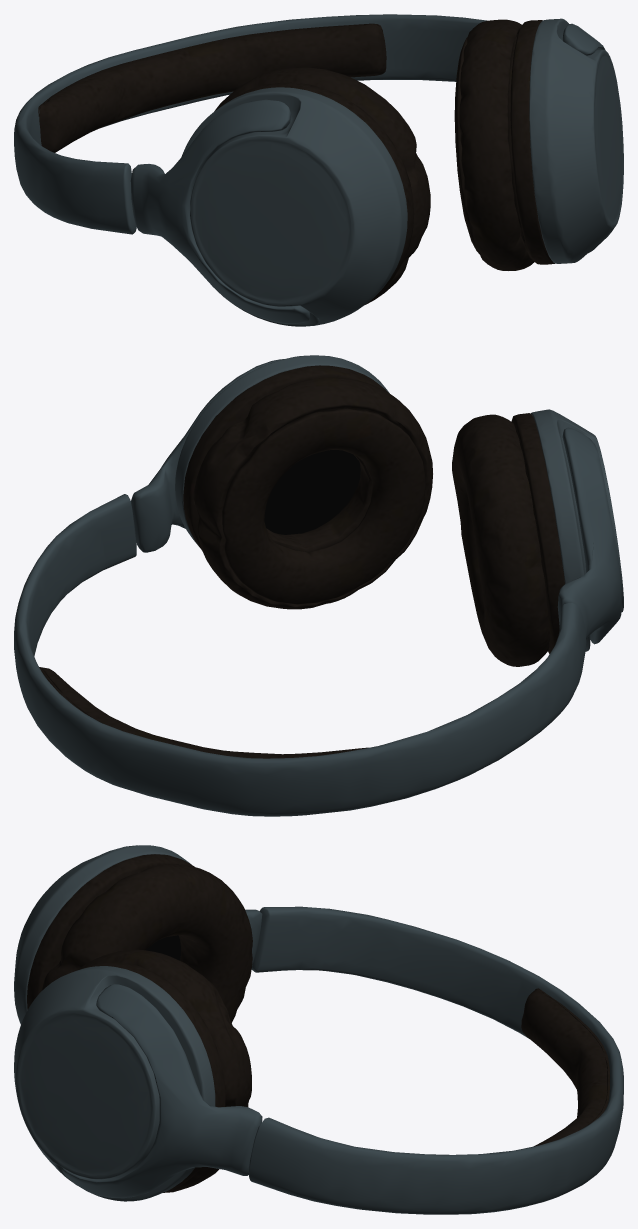
The model's file is Headphones.glb.
The picture shows the model from 3 angles, top to bottom: view 1: azimuth 30°, elevation 25°; view 2: azimuth 150°, elevation 25°; view 3: azimuth 270°, elevation 25°; orthographic projection. The views are drawn at different scales.
Visible parts, largest first — view 1: earpiece, earpiece.001, headband, head band, band, earpiece.006; view 2: earpiece.001, headband, earpiece, band, earpiece.006, head band; view 3: headband, earpiece, earpiece.001, band, head band, earpiece.006.
Part boxes in pixels (bbox=[...]): earpiece: bbox=[181, 18, 623, 326]; earpiece.001: bbox=[214, 19, 534, 304]; headband: bbox=[14, 14, 486, 234]; head band: bbox=[38, 23, 386, 152]; band: bbox=[130, 23, 613, 323]; earpiece.006: bbox=[227, 20, 554, 300]; earpiece.001: bbox=[193, 377, 549, 666]; headband: bbox=[14, 494, 586, 816]; earpiece: bbox=[175, 355, 623, 651]; band: bbox=[131, 359, 621, 644]; earpiece.006: bbox=[183, 365, 564, 653]; head band: bbox=[39, 667, 368, 758]; headband: bbox=[249, 906, 623, 1214]; earpiece: bbox=[14, 845, 215, 1201]; earpiece.001: bbox=[42, 864, 252, 1192]; band: bbox=[62, 845, 262, 1198]; head band: bbox=[521, 988, 609, 1146]; earpiece.006: bbox=[27, 854, 225, 1190].
Size of the model in its own units: 0.37 by 0.1607 by 0.3937.
4 materials, 3 textured.
